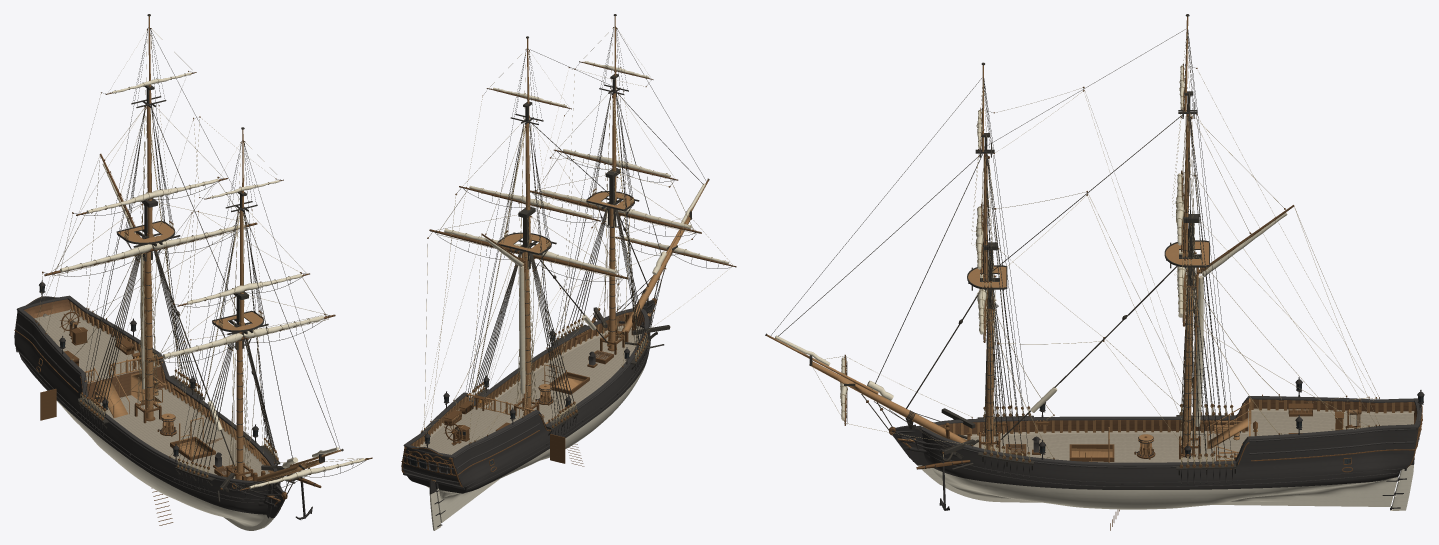
The model's file is ship.glb.
3 renders of one model, left to right at view 1: azimuth 30°, elevation 25°; view 2: azimuth 150°, elevation 25°; view 3: azimuth 270°, elevation 25°, orthographic. The views are drawn at different scales.
Visible parts, largest first — view 1: hull, rope_running, hull_rail, rope_backstays, rope_stays, rope_main_shrouds, spars_timber_005, rope_fore_shrouds, furled_sail_zagiel_main, spars_timber_004, furled_sail_zagiel_fore, rope_topmast_shrouds (+13 smaller); view 2: hull, rope_running, rope_backstays, hull_rail, rope_main_shrouds, rope_fore_shrouds, rope_stays, furled_sail_zagiel_gaflowy, bowsprit, spars_timber_005, rope_topmast_shrouds, spars_timber_004 (+14 smaller); view 3: hull, rope_running, hull_rail, rope_backstays, rope_stays, rope_main_shrouds, hull_backbone, bowsprit, rope_fore_shrouds, furled_sail_zagiel_gaflowy, spars_timber_005, hull_mouldings (+3 smaller).
Boxes of the visible parts, x1,y1,x2,y2 form: hull: [14, 299, 268, 526]; rope_running: [37, 30, 322, 469]; hull_rail: [16, 295, 278, 484]; rope_backstays: [82, 27, 268, 461]; rope_stays: [150, 28, 340, 516]; rope_main_shrouds: [91, 236, 198, 407]; spars_timber_005: [145, 252, 153, 418]; rope_fore_shrouds: [192, 325, 275, 466]; furled_sail_zagiel_main: [60, 225, 244, 272]; spars_timber_004: [236, 332, 243, 479]; furled_sail_zagiel_fore: [162, 316, 324, 358]; rope_topmast_shrouds: [125, 104, 261, 321]; hull: [401, 308, 650, 517]; rope_running: [422, 34, 689, 442]; rope_backstays: [465, 27, 639, 417]; hull_rail: [403, 308, 648, 457]; rope_main_shrouds: [473, 247, 573, 410]; rope_fore_shrouds: [568, 204, 645, 342]; rope_stays: [529, 26, 706, 344]; furled_sail_zagiel_gaflowy: [484, 237, 525, 393]; bowsprit: [615, 178, 709, 341]; spars_timber_005: [524, 252, 531, 414]; rope_topmast_shrouds: [506, 93, 632, 241]; spars_timber_004: [609, 208, 615, 348]; hull: [921, 399, 1420, 509]; rope_running: [971, 34, 1378, 461]; hull_rail: [924, 396, 1420, 466]; rope_backstays: [983, 29, 1231, 455]; rope_stays: [771, 29, 1186, 461]; rope_main_shrouds: [1181, 267, 1212, 453]; hull_backbone: [915, 425, 1398, 506]; bowsprit: [765, 333, 970, 442]; rope_fore_shrouds: [985, 289, 1009, 446]; furled_sail_zagiel_gaflowy: [1195, 212, 1287, 426]; spars_timber_005: [1182, 268, 1193, 454]; hull_mouldings: [930, 428, 1415, 484].
Size of the model in its own units: 16.71 by 36.1 by 41.29.
Materials: 15 (15 with a texture image).
